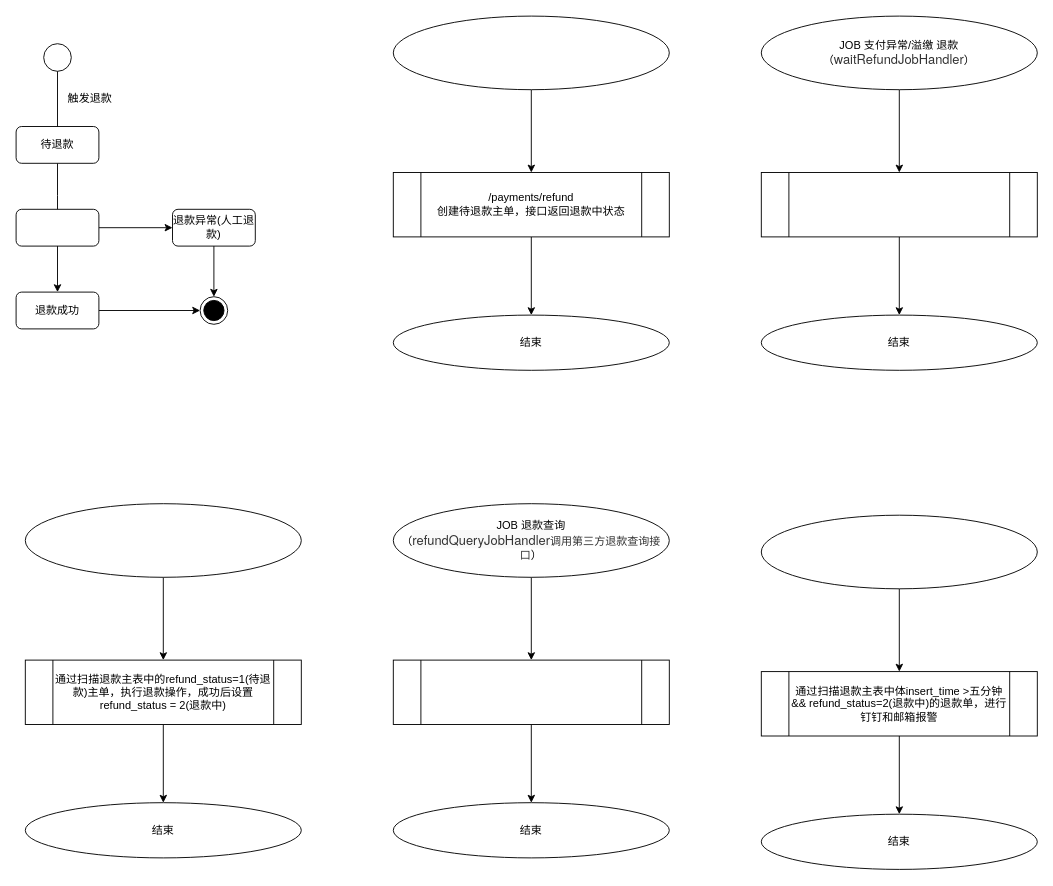
This 1053x886 diagram has some shape labels left out. Here are the shapes that lost their labels. From the top down, the centre of each, then its label:
point 530,52: Api 退款（外部接口，主动退款）
point 898,204: 通过扫描支付主表中need_refund=1的支付主单，创建对应的退款主单refund_statu=1,并设置need_refund=2
point 57,227: 退款中
point 162,540: JOB 退款 （ refundJobHandler 调用第三方退款接口 ）
point 898,551: JOB 退款报警 （ refundWarnJob ）
point 530,691: 通过扫描退款主表中的refund_status=2(退款中)主单，执行退款查询操作，成功后设置refund_status = 3(退款成功)
